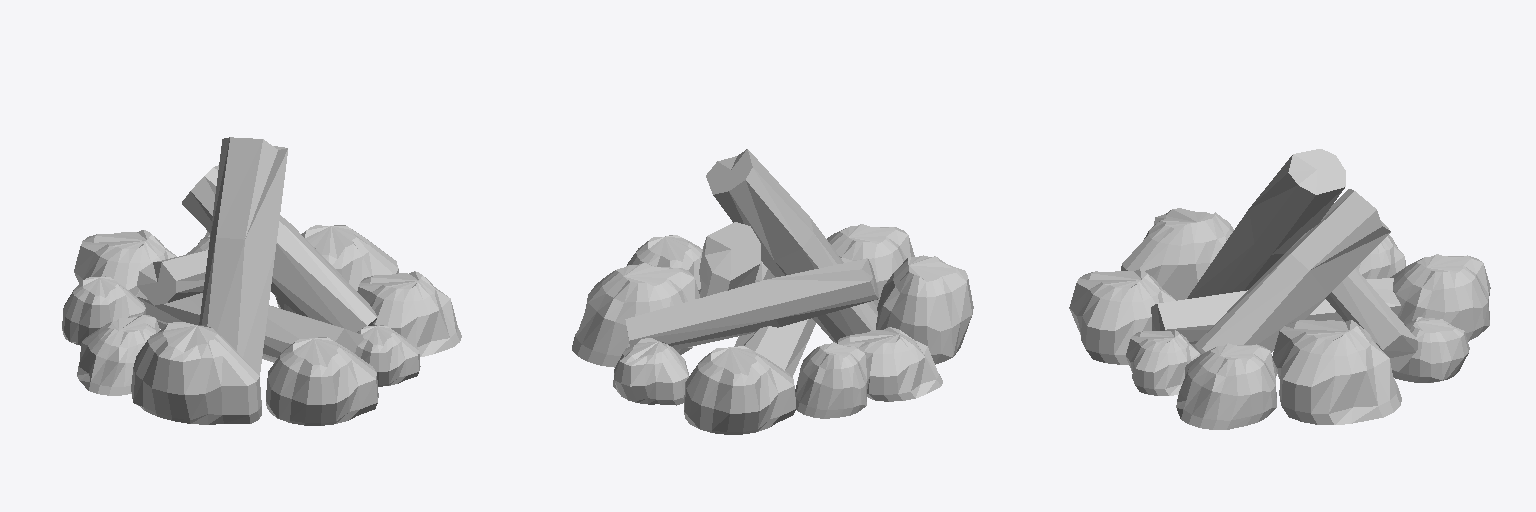
File: campfire.obj
3 renders of one model, left to right at view 1: azimuth 30°, elevation 25°; view 2: azimuth 150°, elevation 25°; view 3: azimuth 270°, elevation 25°, orthographic.
Parts seen in each view (by area): view 1: pasted__pSphere8; view 2: pasted__pSphere8; view 3: pasted__pSphere8.
Part boxes in pixels (x1,y1,x2,y2): pasted__pSphere8: (62, 137, 461, 425); pasted__pSphere8: (572, 149, 973, 434); pasted__pSphere8: (1069, 149, 1490, 429).
Bounding box in the file's own units: 117 × 71.17 × 125.